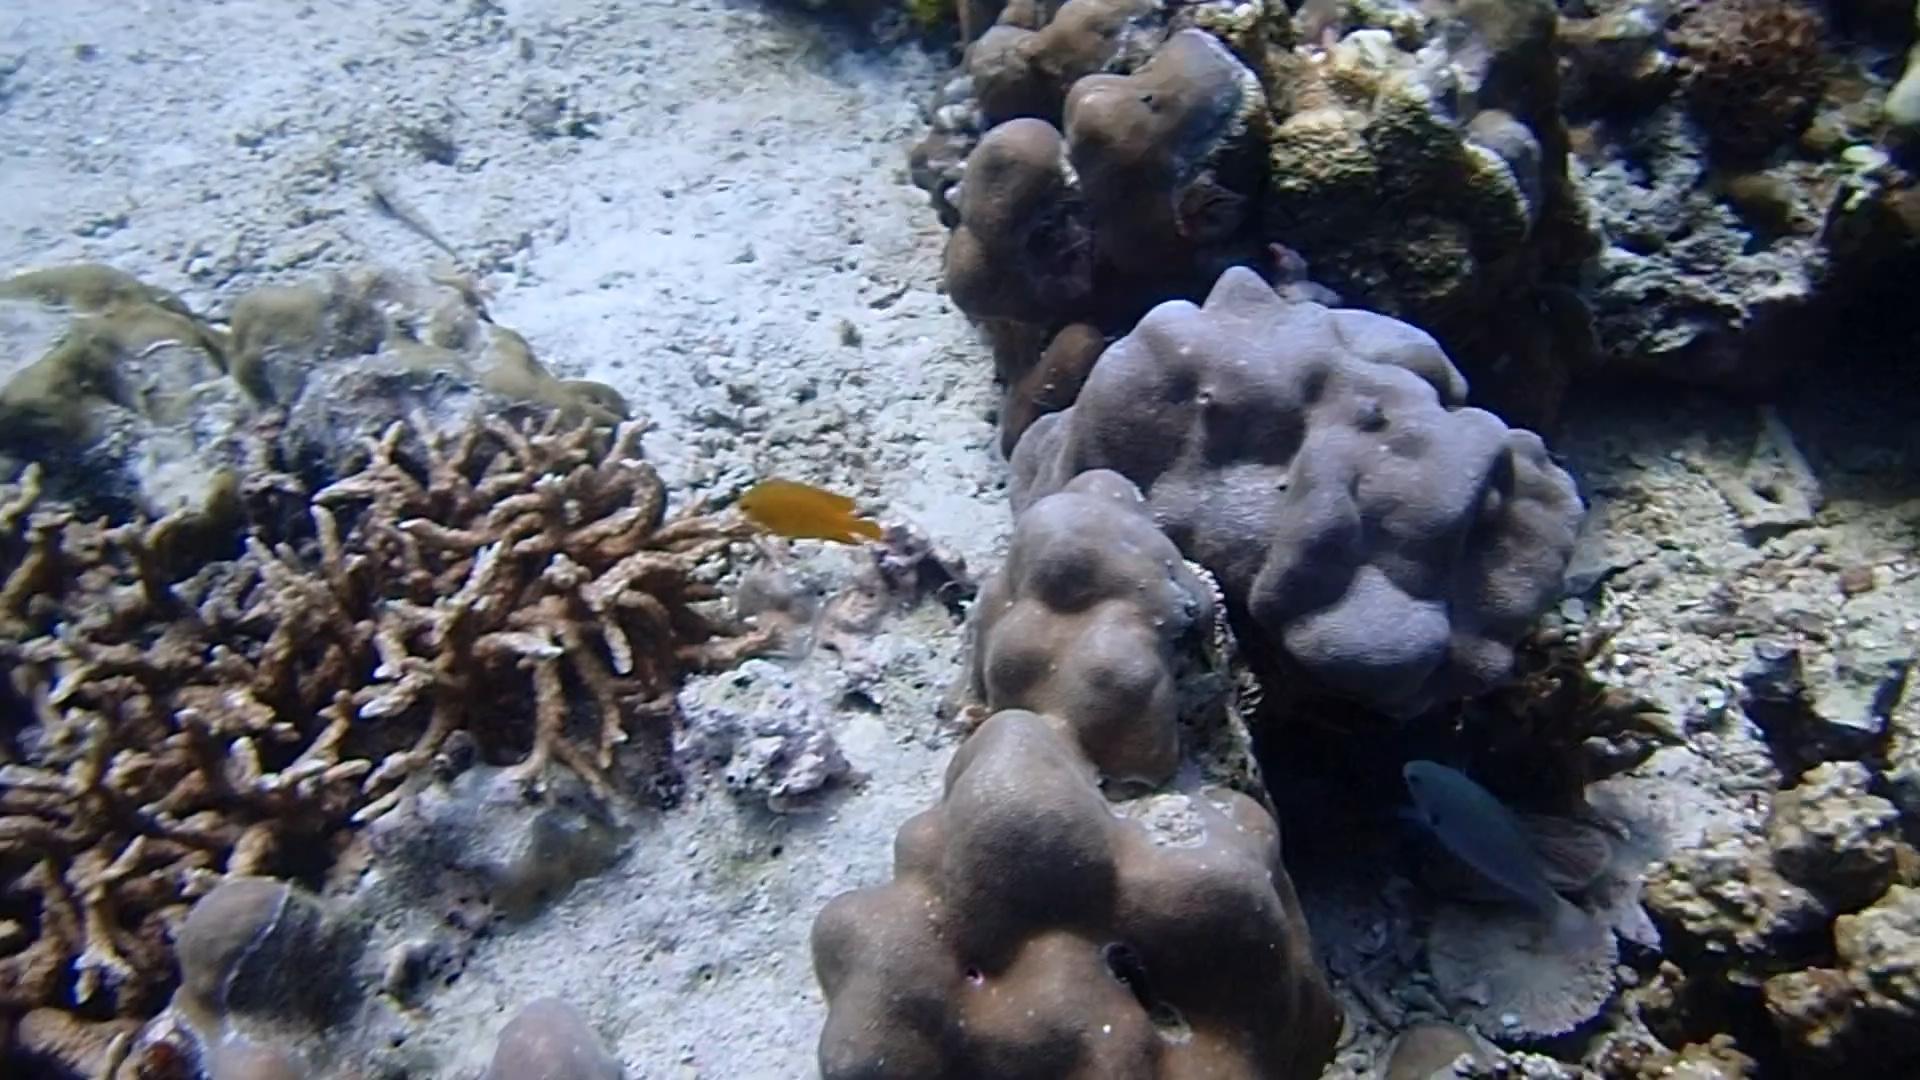Blue Fish Two: (1387, 746, 1602, 939)
Yellow Fish: (721, 469, 885, 554)
